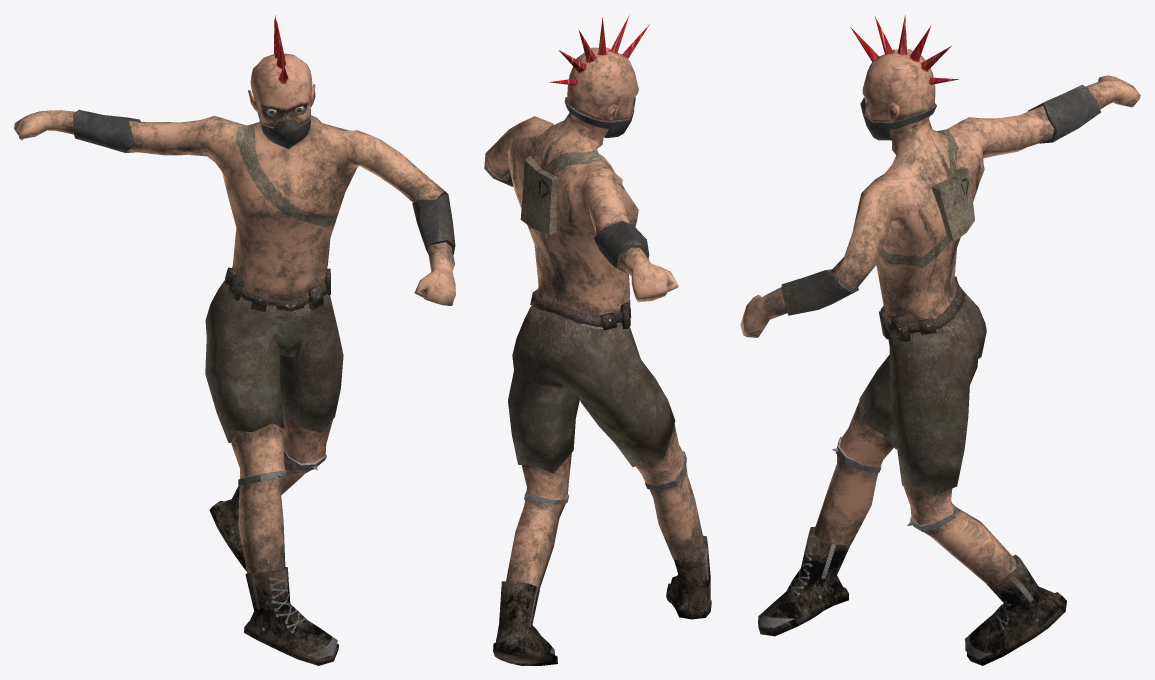
File: Anim_arma_cc_npc2.0016.obj
3 renders of one model, left to right at view 1: azimuth 30°, elevation 25°; view 2: azimuth 150°, elevation 25°; view 3: azimuth 270°, elevation 25°, orthographic. The views are drawn at different scales.
Parts seen in each view (by area): view 1: polySurface1; view 2: polySurface1; view 3: polySurface1.
Part boxes in pixels (x1,y1,x2,y2): polySurface1: (14,15,455,665); polySurface1: (484,14,711,665); polySurface1: (740,15,1140,665).
Size of the model in its own units: 5.38 by 10.02 by 5.74.
